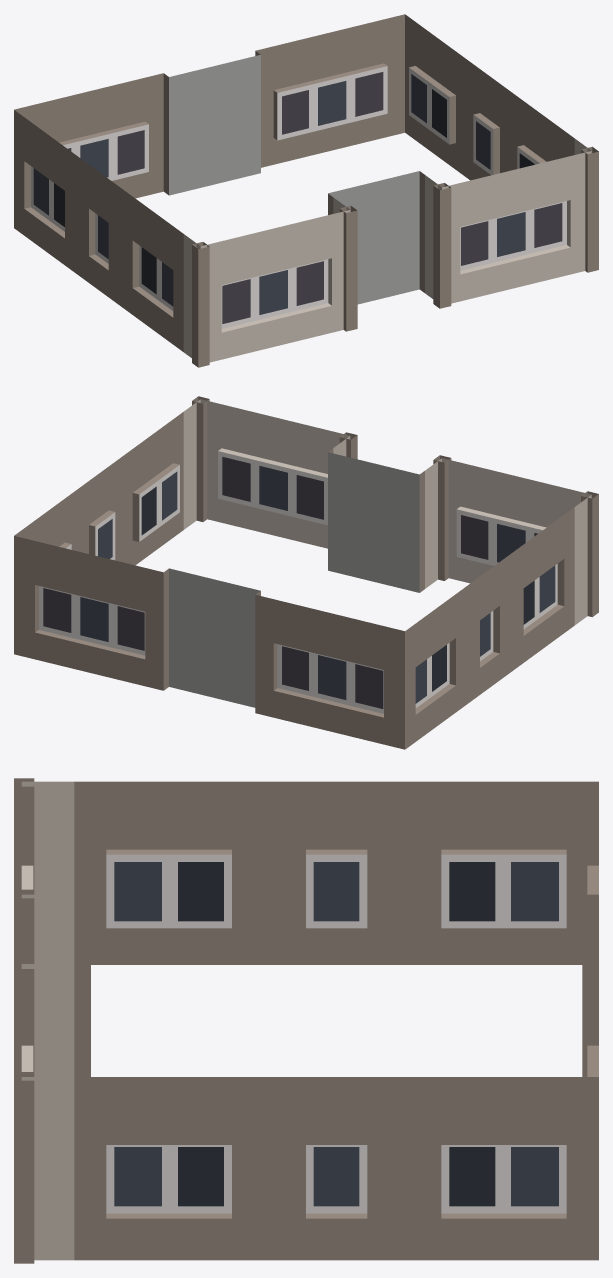
The model's file is building1_middle2.fbx.
The picture shows the model from 3 angles, top to bottom: view 1: azimuth 30°, elevation 25°; view 2: azimuth 150°, elevation 25°; view 3: azimuth 270°, elevation 25°; orthographic projection. The views are drawn at different scales.
Visible parts, largest first — view 1: building1_middle2; view 2: building1_middle2; view 3: building1_middle2.
Part boxes in pixels (x1=…): building1_middle2: x1=14, y1=14, x2=598, y2=367; building1_middle2: x1=14, y1=396, x2=598, y2=749; building1_middle2: x1=14, y1=778, x2=598, y2=1263.
Size of the model in its own units: 884 by 250 by 723.
